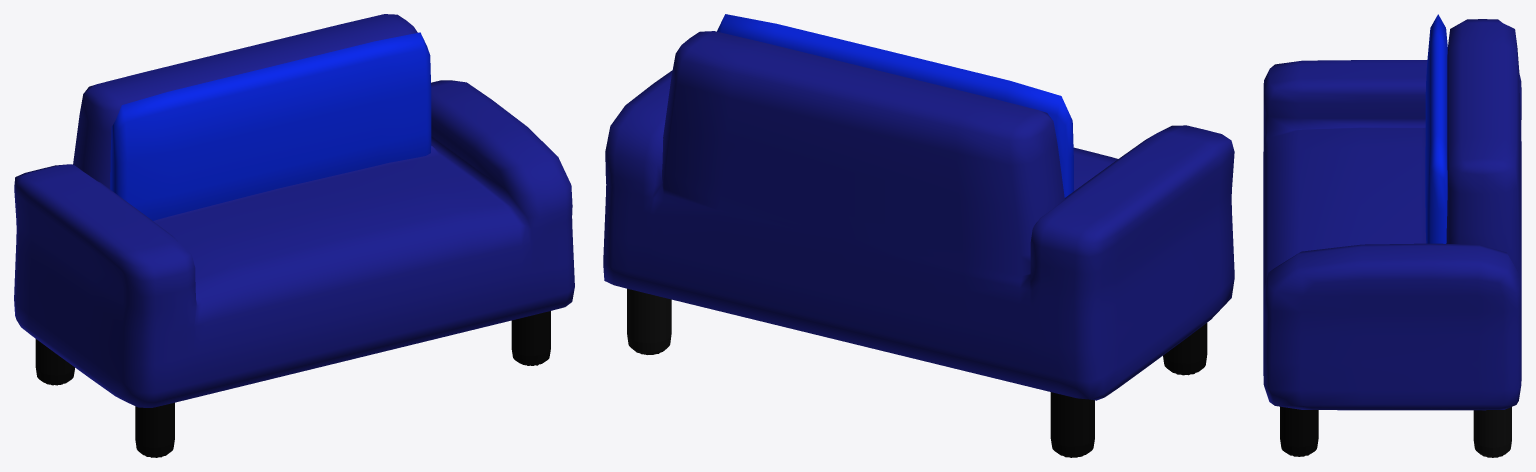
The model's file is Couch.fbx.
The picture shows the model from 3 angles, left to right: view 1: azimuth 30°, elevation 25°; view 2: azimuth 150°, elevation 25°; view 3: azimuth 270°, elevation 25°; orthographic projection. The views are drawn at different scales.
Parts seen in each view (by area): view 1: Cylinder.006; view 2: Cylinder.006; view 3: Cylinder.006.
Boxes of the visible parts, x1=… form: Cylinder.006: x1=14, y1=14, x2=574, y2=457; Cylinder.006: x1=603, y1=14, x2=1234, y2=457; Cylinder.006: x1=1263, y1=14, x2=1521, y2=457.
Size of the model in its own units: 457 by 286 by 238.
